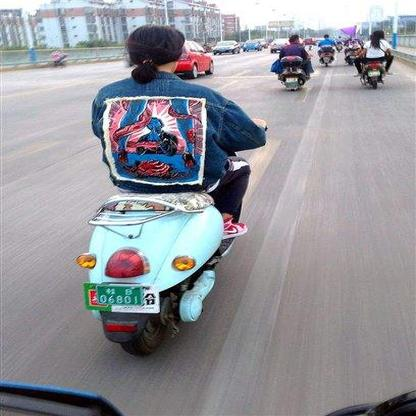target: (69, 22, 268, 358)
